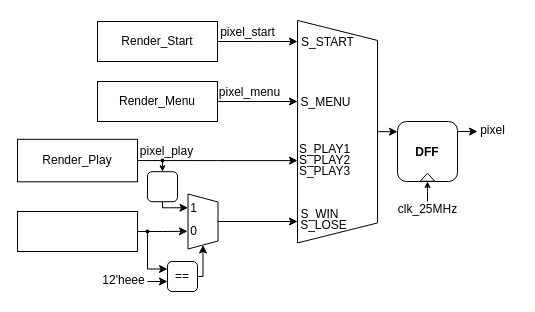
Image size: 535x312. Some labels were removed from this diagram. Here are the shapes that lost their labels. From the top down, the box of each, then its label:
(146, 171, 178, 202): tint
(16, 210, 138, 252): Render_WinLose
